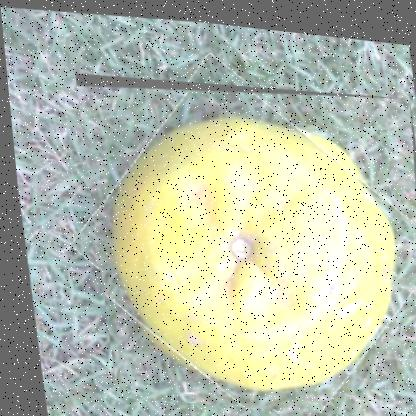orange_rotten: (71, 59, 415, 415)
